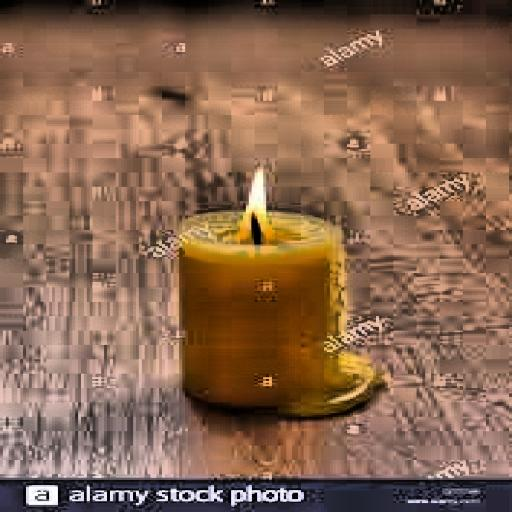fire: (234, 163, 269, 221)
